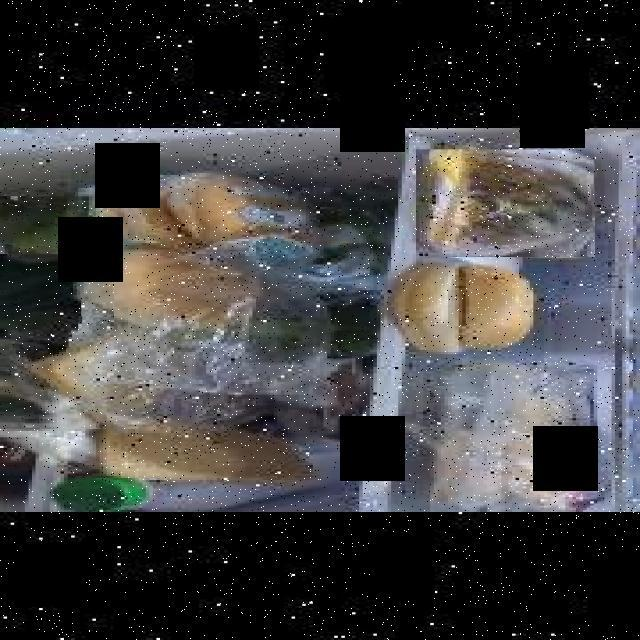bread: (0, 324, 107, 429)
green_beans: (0, 252, 114, 328)
pineapple: (418, 150, 596, 257)
salad: (0, 196, 89, 254)
